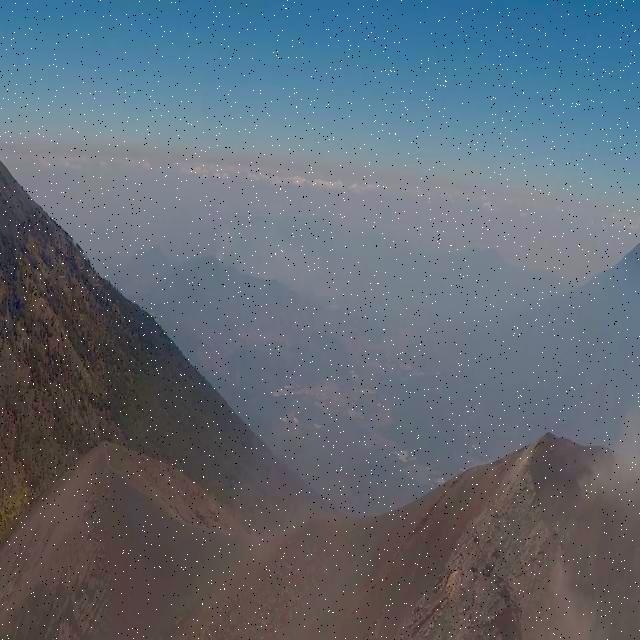Summit: (380, 412, 640, 640)
